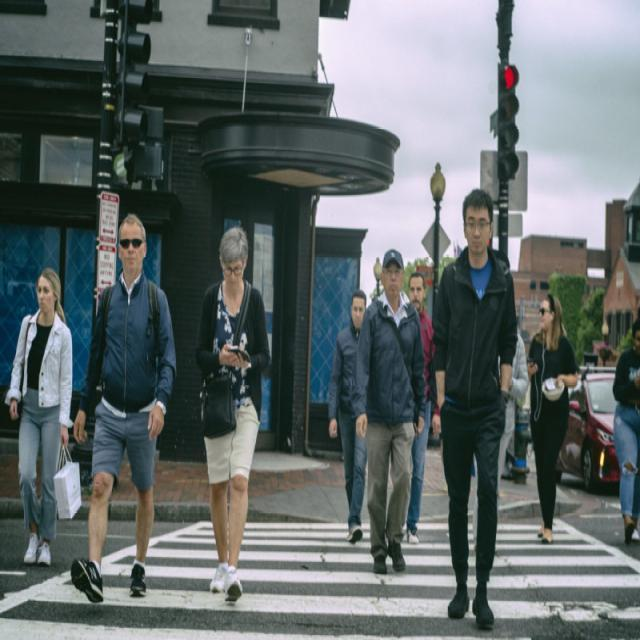person: (73, 169, 182, 622), (432, 153, 530, 634), (192, 198, 278, 616), (2, 263, 85, 571), (360, 230, 430, 584), (332, 266, 382, 554), (534, 289, 584, 552), (406, 255, 434, 548), (610, 299, 640, 552)
